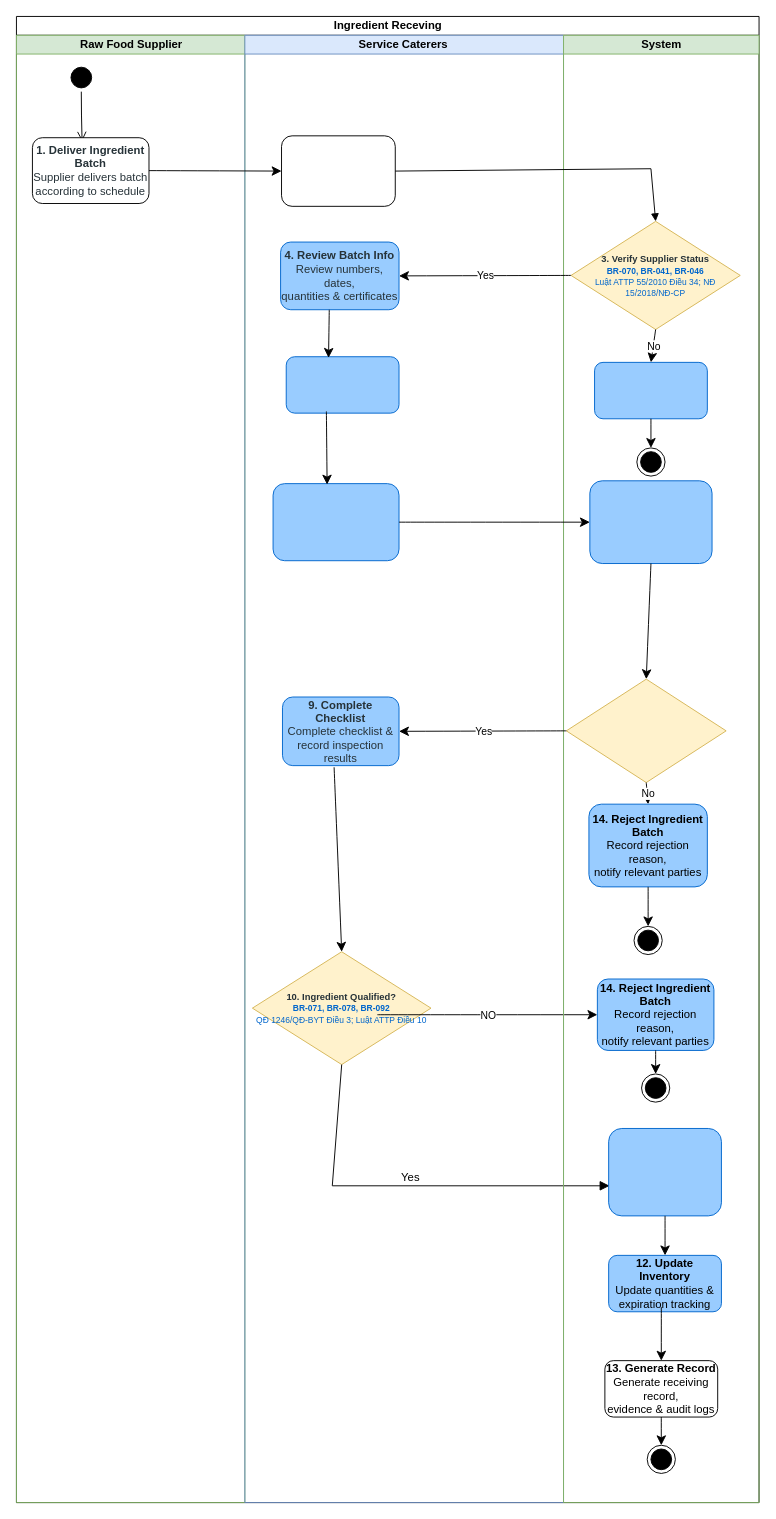
Some shapes in this 776 by 1519 pixel diagram are drawn without their labels. Each missing label, with the centre of its shape:
11. Create Batch Record Create trace record with supplier, GPS & inspect info: (x=664, y=1172)
2. Start Receiving Session Initiate receiving session in system for batch: (x=338, y=170)
5. Inspect Quality Visual check of freshness, packaging & safety: (x=342, y=384)
6. Capture Evidence Photos Take photos of labels, packaging & documents: (x=335, y=522)
7. Capture GPS & Time Record GPS coordinates, device info & timestamp: (x=650, y=522)
8. Verify Location BR-073, BR-074, BR-028: (x=645, y=730)
Rejection Ingredient Batch: (x=650, y=390)
